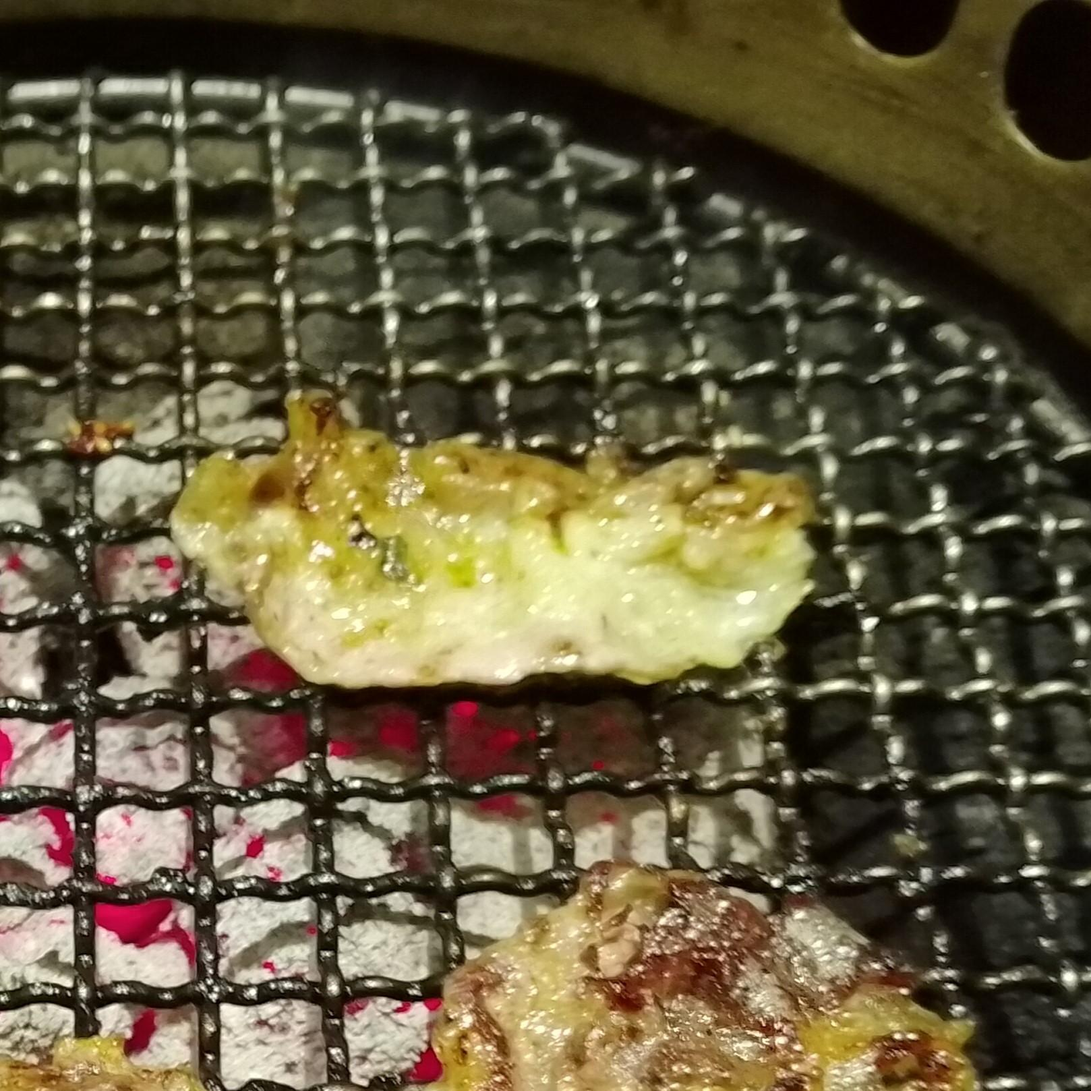Overcooked: (433, 866, 984, 1090)
Well-Cooked: (167, 391, 826, 694)
